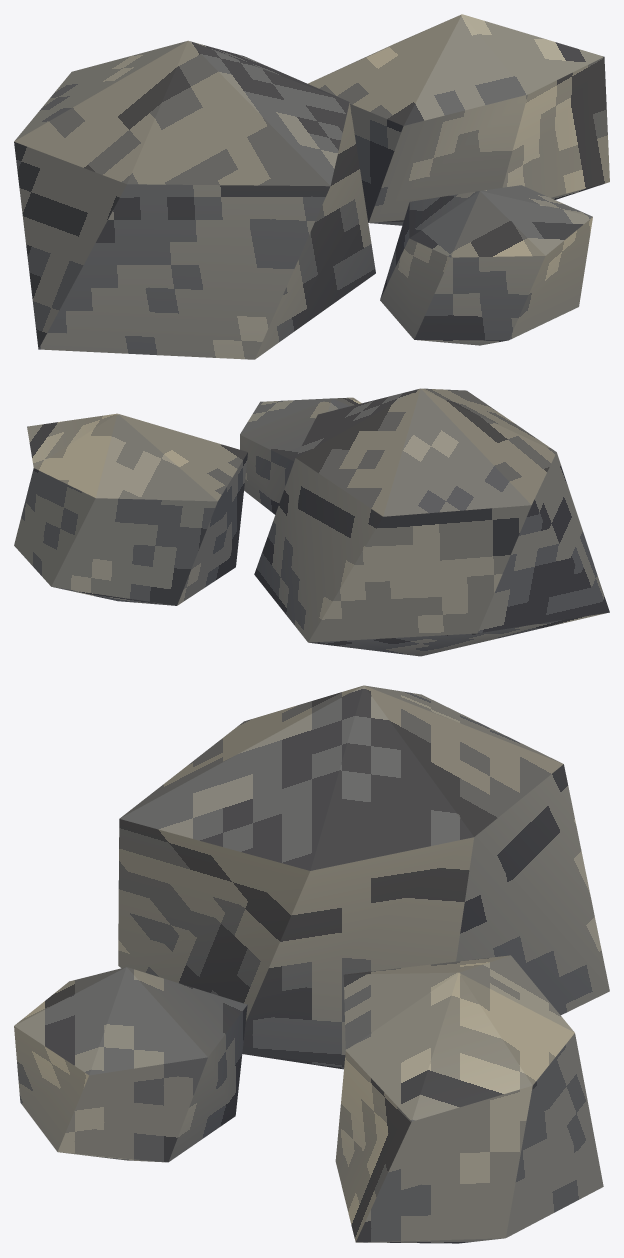
The model's file is mnat.rock__cluster.glb.
3 renders of one model, top to bottom at view 1: azimuth 30°, elevation 25°; view 2: azimuth 150°, elevation 25°; view 3: azimuth 270°, elevation 25°, orthographic. The views are drawn at different scales.
Visible parts, largest first — view 1: kit_rock; view 2: kit_rock; view 3: kit_rock.
Part boxes in pixels (x1,y1,x2,y2): kit_rock: [14, 14, 609, 359]; kit_rock: [14, 388, 609, 656]; kit_rock: [14, 685, 609, 1243].
Size of the model in its own units: 1.89 by 0.9 by 1.26.
1 material, 1 textured.
